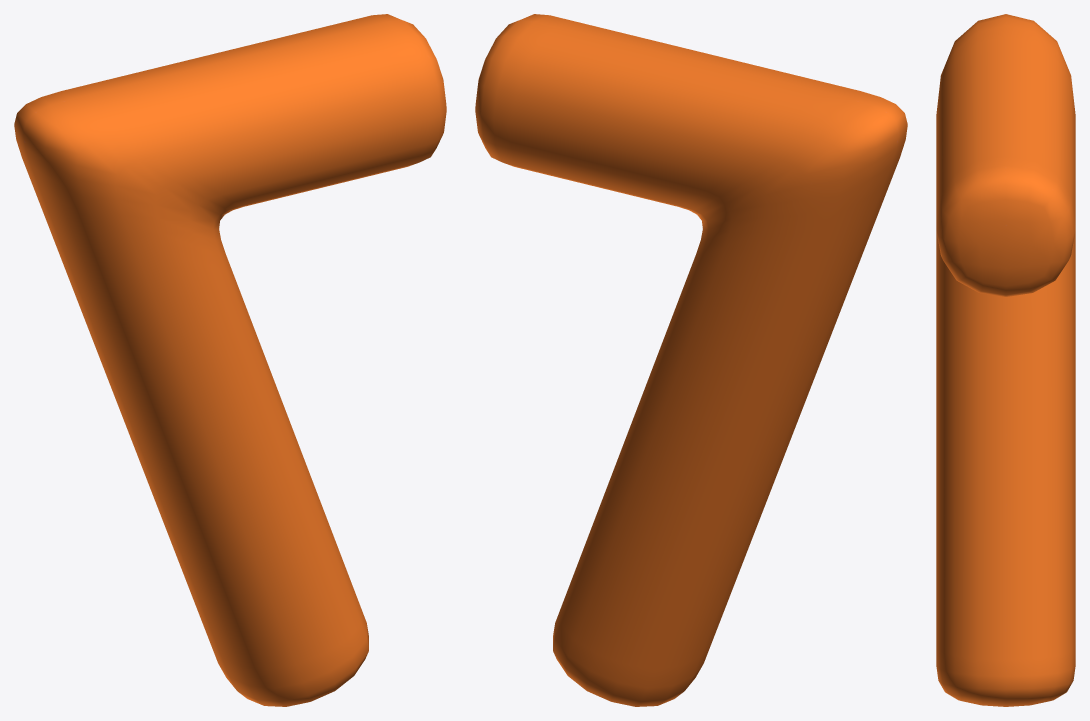
Rendered from numero-7.glb.
3 renders of one model, left to right at view 1: azimuth 30°, elevation 25°; view 2: azimuth 150°, elevation 25°; view 3: azimuth 270°, elevation 25°, orthographic. The views are drawn at different scales.
Parts seen in each view (by area): view 1: node_id30; view 2: node_id30; view 3: node_id30.
Boxes of the visible parts, x1=… form: node_id30: x1=14, y1=14, x2=446, y2=706; node_id30: x1=475, y1=14, x2=907, y2=706; node_id30: x1=936, y1=14, x2=1075, y2=706.
Size of the model in its own units: 0.3328 by 0.512 by 0.1105.
1 material, 1 textured.
